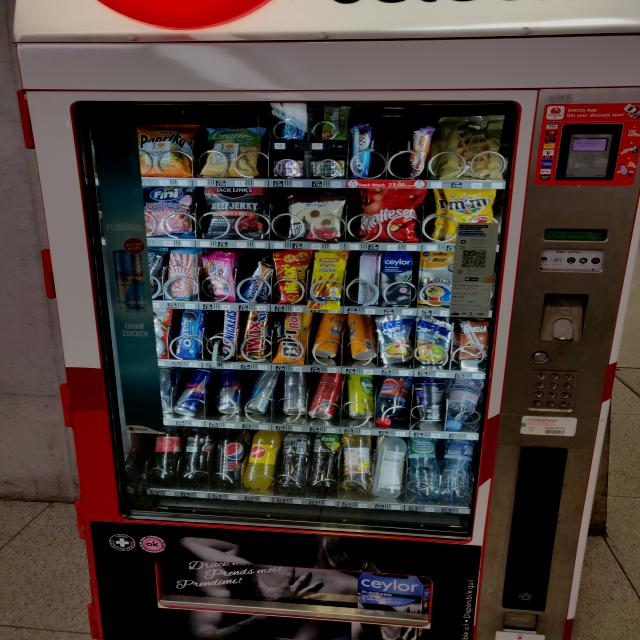bifi_roll__50__4251097402635: (273, 309, 314, 365)
c-swiss_dosenabisicetea__33__9120025930135: (338, 316, 378, 360), (310, 313, 348, 359)
caferoyal_classicmacchiato__33__7617014164487: (415, 376, 450, 423)
caprisun_multivitamin__20__4000177605004: (369, 312, 415, 370), (412, 318, 453, 363)
coke__dose_33__54491472: (306, 370, 346, 420)
coke__flasche_50__54491472: (146, 425, 186, 487)
coke_zero_flasche_50__5449000131836: (178, 430, 213, 481)
comella_schokodrink__33__7613100037253: (458, 321, 489, 361)
evian___50__3068320353500: (445, 378, 486, 432)
fini_galaxymix_packung_100_1_8410525150364: (144, 186, 194, 238)
fini_jellykisses_packung_80_1_8410525116704: (200, 254, 235, 302)
fuse_lemon__50__5449000235947: (304, 434, 341, 492)
fuse_lemon_dose_33__5449000235947: (348, 375, 377, 419)
fuse_peach__50__5449000236623: (278, 432, 313, 491)
henniez_blau__33__7610235000442: (440, 439, 475, 499)
henniez_gruen__33__7610235000442: (408, 437, 441, 501)
henniez_rot__33__7610235000442: (371, 378, 412, 426)
jacklinks_beefjerkyorginal__25__4047751730219: (202, 186, 267, 241)
jlbrichard_gauffre__90__5410495002000: (442, 116, 506, 182)
kagi_specialedition__50__7610046000259: (164, 250, 194, 301)
knoppers_riegel____4035800488808: (241, 258, 273, 302)
lorenz_nicnacs__40__4018077798818: (269, 250, 311, 307)
malburner_partysticks__40__7610200279682: (310, 252, 349, 308)
maltesers___100__5000159023061: (356, 184, 428, 243)
mnms_gelb__45__40111445: (442, 190, 492, 242)
oreo___66__84100733: (172, 308, 206, 358)
pepsi_max__50__4060800105943: (215, 427, 247, 485)
ramseier_schorle__50__7610057012456: (341, 435, 375, 495)
redbull___33__90162909: (175, 372, 208, 416), (279, 373, 307, 419), (216, 369, 243, 413)
redbull_light__33__90162800: (247, 371, 279, 412)
sinalco_orange__50__4018715000112: (240, 430, 280, 489)
skittles_sour_riegel_51_1_0000000000004: (320, 104, 354, 140)
snickers___50__5000159461122: (218, 310, 240, 359)
stimorol_spearmint_riegel_14_1_0000000000005: (308, 157, 348, 180)
stimorol_wildcherry_riegel_14_1_57060330: (272, 158, 306, 176)
twix___50__5000159459228: (237, 311, 272, 363)
vitaminwell_reload__50__7350042716388: (373, 434, 411, 498)
zweifel_graneochilli__100__7610095184009: (196, 121, 272, 178)
zweifel_paprika__90__7610095013002: (132, 121, 195, 175)
